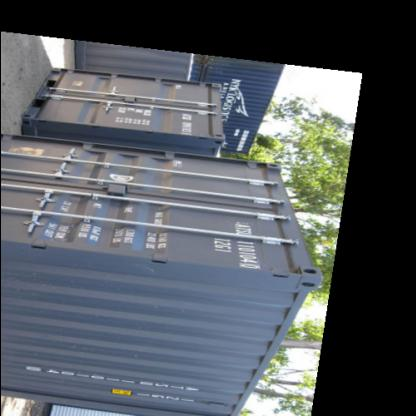Damage: (136, 258, 160, 274), (82, 312, 104, 328)
